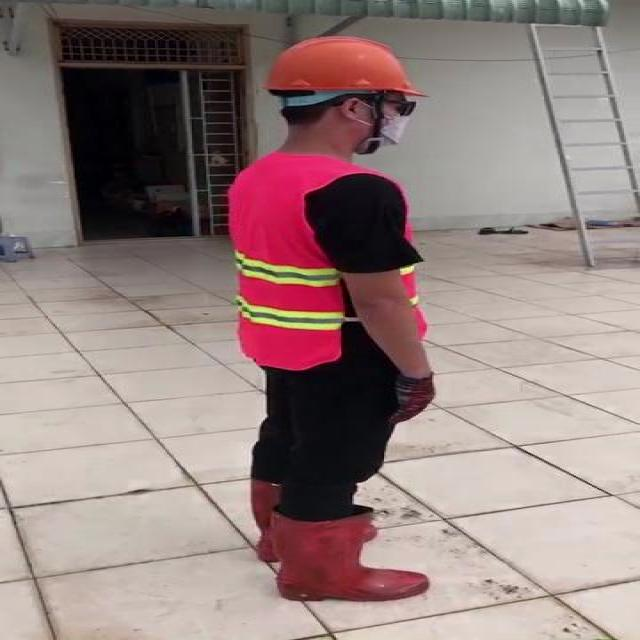boots: (270, 510, 432, 601), (238, 476, 382, 562)
face_mask: (352, 97, 428, 149)
hand_glove: (389, 375, 434, 424)
head_helmet: (258, 32, 436, 98)
person: (216, 22, 456, 600)
vest: (228, 155, 427, 369)
